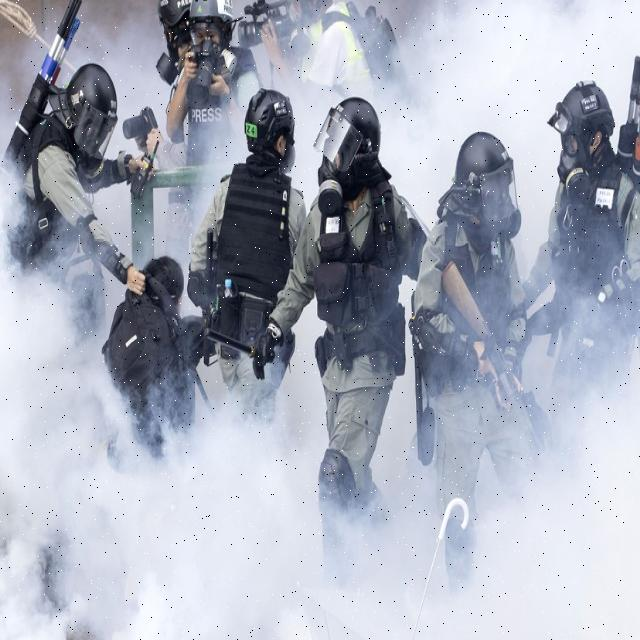police: (280, 57, 430, 616), (413, 108, 546, 606), (520, 21, 640, 529), (166, 66, 309, 491), (0, 0, 119, 378)
